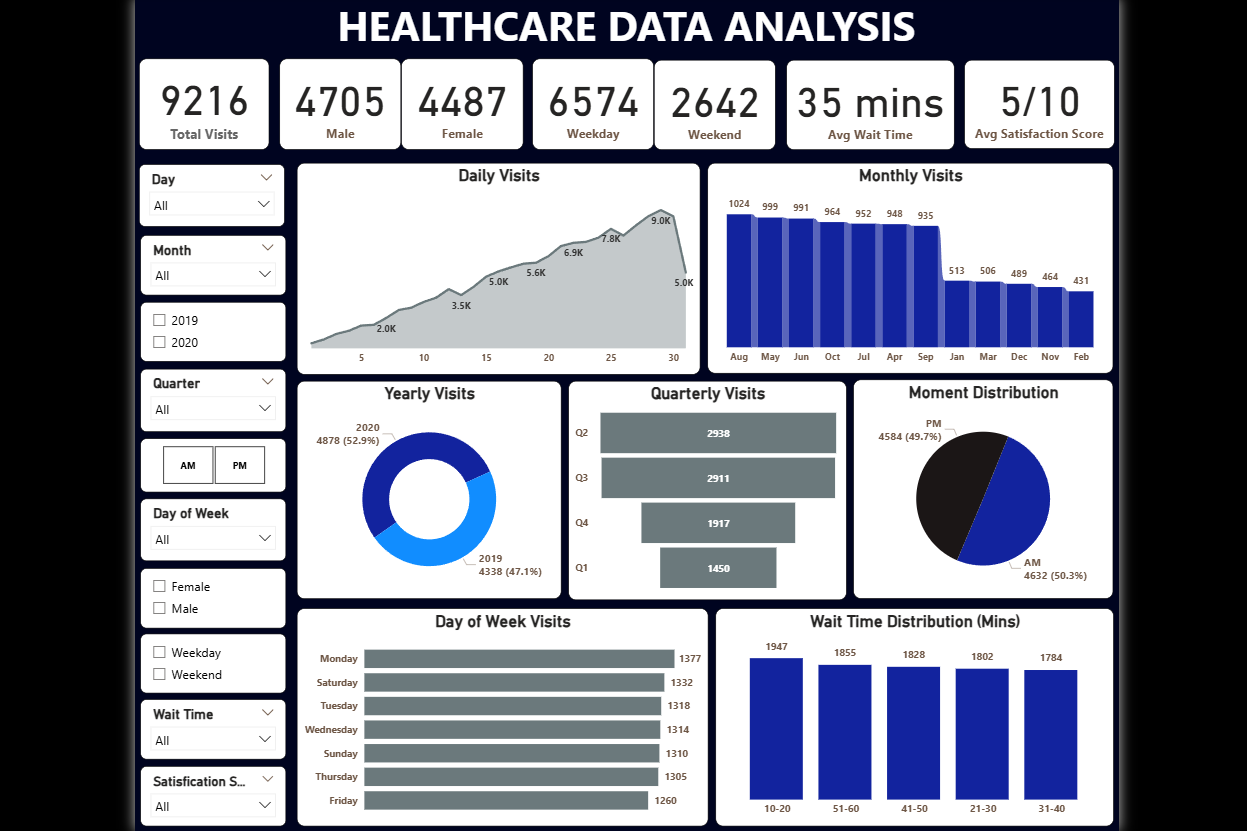

What the dashboard file says about the page in this screenshot:
{"tool":"powerbi","page":{"name":"Page 1","canvas":[1282,1086],"ordinal":0},"visuals":[{"type":"stackedAreaChart","title":"Daily Visits","fields":{"Category":["date_time table.day"],"Y":["Sum(date_time table.day)"]},"box":[210,215.7,525.7,275.7],"z":0},{"type":"columnChart","title":"Monthly Visits","fields":{"Category":["date_time table.month"],"Y":["CountNonNull(date_time table.month)"]},"box":[745.7,215.7,528.6,274.3],"z":1000},{"type":"donutChart","title":"Yearly Visits","fields":{"Y":["CountNonNull(date_time table.year)"],"Category":["date_time table.year"]},"box":[210,500,345,283.8],"z":2000},{"type":"clusteredBarChart","title":"Day of Week Visits","fields":{"Category":["date_time table.day of week"],"Y":["CountNonNull(date_time table.day of week)"]},"box":[210,795.7,535.7,284.3],"z":3000},{"type":"funnel","title":"Quarterly Visits","fields":{"Category":["date_time table.quarter"],"Y":["CountNonNull(date_time table.quarter)"]},"box":[564.3,499.4,362.9,285.7],"z":4000},{"type":"pieChart","title":"Moment Distribution","fields":{"Category":["date_time table.Moment"],"Y":["CountNonNull(date_time table.Moment)"]},"box":[935.7,498,338.6,285.7],"z":5000},{"type":"textbox","box":[0,0,1280,74.3],"z":6000},{"type":"lineStackedColumnComboChart","title":"Wait Time Distribution (Mins)","fields":{"Category":["date_time table.waittime_bucket"],"Y":["CountNonNull(date_time table.waittime_bucket)"]},"box":[755.7,795.7,518.6,284.3],"z":7000},{"type":"slicer","fields":{"Values":["date_time table.day of week"]},"box":[6.2,653.8,190,81.2],"z":8000},{"type":"slicer","fields":{"Values":["date_time table.Moment"]},"box":[6.2,575,190,70],"z":9000},{"type":"slicer","fields":{"Values":["date_time table.quarter"]},"box":[6.2,483.8,190,82.5],"z":10000},{"type":"slicer","fields":{"Values":["date_time table.year"]},"box":[6.2,397.5,190,77.5],"z":11000},{"type":"slicer","fields":{"Values":["date_time table.month"]},"box":[6.2,310,190,78.8],"z":12000},{"type":"slicer","fields":{"Values":["date_time table.day"]},"box":[5.7,218.2,190,81.4],"z":13000},{"type":"slicer","fields":{"Values":["patient table.patient_gender"]},"box":[6.2,743.8,190,78.8],"z":14000},{"type":"slicer","fields":{"Values":["date_time table.weekday/weekend"]},"box":[6.2,830,190,77.5],"z":15000},{"type":"slicer","fields":{"Values":["date_time table.waittime_bucket"]},"box":[6.2,915,190,78.8],"z":16000},{"type":"slicer","fields":{"Values":["activity table.satisfication_score"]},"box":[6.2,1001.2,190,78.8],"z":17000},{"type":"card","fields":{"Values":["Count(patient table.patient_id)"]},"box":[5.7,80,170,118.6],"z":18000},{"type":"card","fields":{"Values":["CountNonNull(patient table.patient_gender)"]},"box":[187.7,79.8,158.6,118.6],"z":19000},{"type":"card","fields":{"Values":["CountNonNull(patient table.patient_gender)"]},"box":[347,79.7,159.4,118.8],"z":20000},{"type":"card","fields":{"Values":["date_time table.Avg Wait Time"]},"box":[847.8,81.2,218.8,117.4],"z":21000},{"type":"card","fields":{"Values":["date_time table.Avg Satisfication Score"]},"box":[1079.7,82.6,195.7,115.9],"z":22000},{"type":"card","fields":{"Values":["CountNonNull(date_time table.weekday/weekend)"]},"box":[517.7,79.7,158.6,118.6],"z":23000},{"type":"card","fields":{"Values":["CountNonNull(date_time table.weekday/weekend)"]},"box":[676.3,81.2,158.6,117.1],"z":24000}]}

Visuals, with their boxes on the page's 1282x1086 design canvas (x1, y1, x2, y2). These are canvas units, not pixel positions in the 1247x831 screenshot, which may show the page scaled, cropped or inside an application window:
"Daily Visits" stackedAreaChart: [left=210, top=216, right=736, bottom=491]
"Monthly Visits" columnChart: [left=746, top=216, right=1274, bottom=490]
"Yearly Visits" donutChart: [left=210, top=500, right=555, bottom=784]
"Day of Week Visits" clusteredBarChart: [left=210, top=796, right=746, bottom=1080]
"Quarterly Visits" funnel: [left=564, top=499, right=927, bottom=785]
"Moment Distribution" pieChart: [left=936, top=498, right=1274, bottom=784]
textbox: [left=0, top=0, right=1280, bottom=74]
"Wait Time Distribution (Mins)" lineStackedColumnComboChart: [left=756, top=796, right=1274, bottom=1080]
slicer - date_time table.day of week: [left=6, top=654, right=196, bottom=735]
slicer - date_time table.Moment: [left=6, top=575, right=196, bottom=645]
slicer - date_time table.quarter: [left=6, top=484, right=196, bottom=566]
slicer - date_time table.year: [left=6, top=398, right=196, bottom=475]
slicer - date_time table.month: [left=6, top=310, right=196, bottom=389]
slicer - date_time table.day: [left=6, top=218, right=196, bottom=300]
slicer - patient table.patient_gender: [left=6, top=744, right=196, bottom=823]
slicer - date_time table.weekday/weekend: [left=6, top=830, right=196, bottom=908]
slicer - date_time table.waittime_bucket: [left=6, top=915, right=196, bottom=994]
slicer - activity table.satisfication_score: [left=6, top=1001, right=196, bottom=1080]
card - Count(patient table.patient_id): [left=6, top=80, right=176, bottom=199]
card - CountNonNull(patient table.patient_gender): [left=188, top=80, right=346, bottom=198]
card - CountNonNull(patient table.patient_gender): [left=347, top=80, right=506, bottom=198]
card - date_time table.Avg Wait Time: [left=848, top=81, right=1067, bottom=199]
card - date_time table.Avg Satisfication Score: [left=1080, top=83, right=1275, bottom=198]
card - CountNonNull(date_time table.weekday/weekend): [left=518, top=80, right=676, bottom=198]
card - CountNonNull(date_time table.weekday/weekend): [left=676, top=81, right=835, bottom=198]
